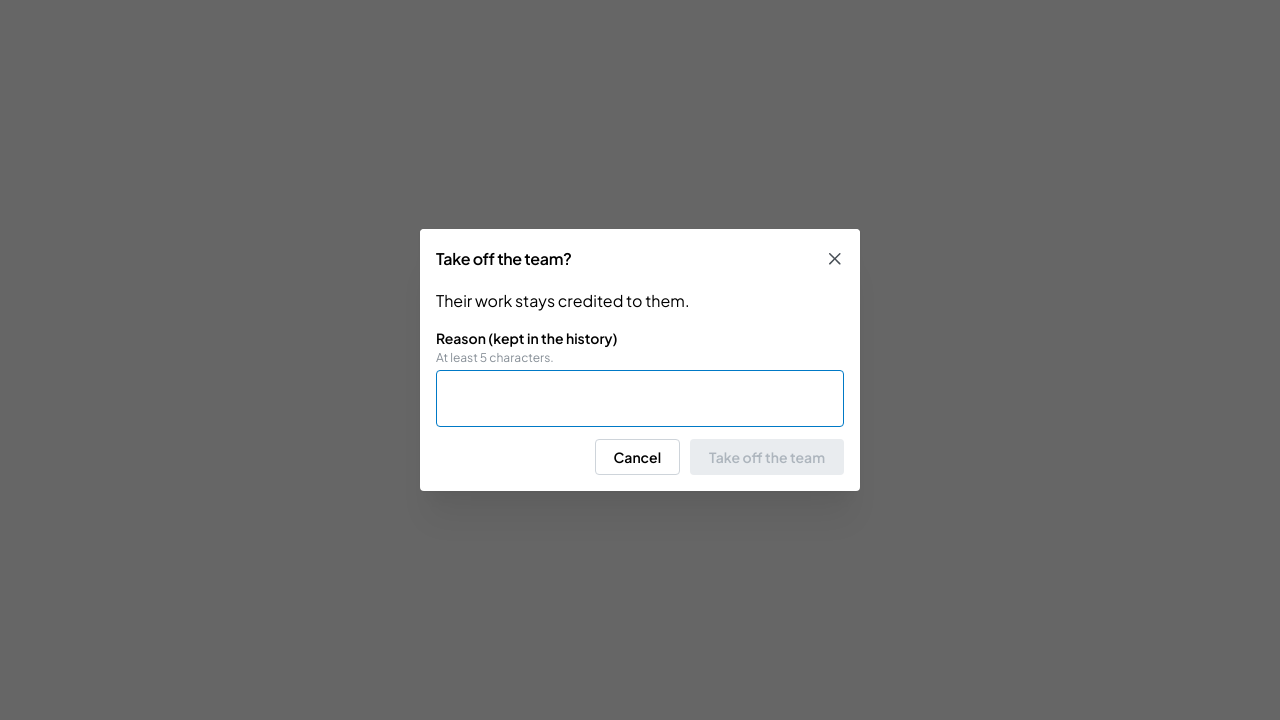
Test case: ConfirmModal › asks for a reason before a sensitive change
Later steps or results of the test are not shown.
Check: the button "Take off the team" is disabled, box [690, 439, 844, 475]
In the text box: (640, 398) [436, 370, 844, 427], type "  No longer on the case  "
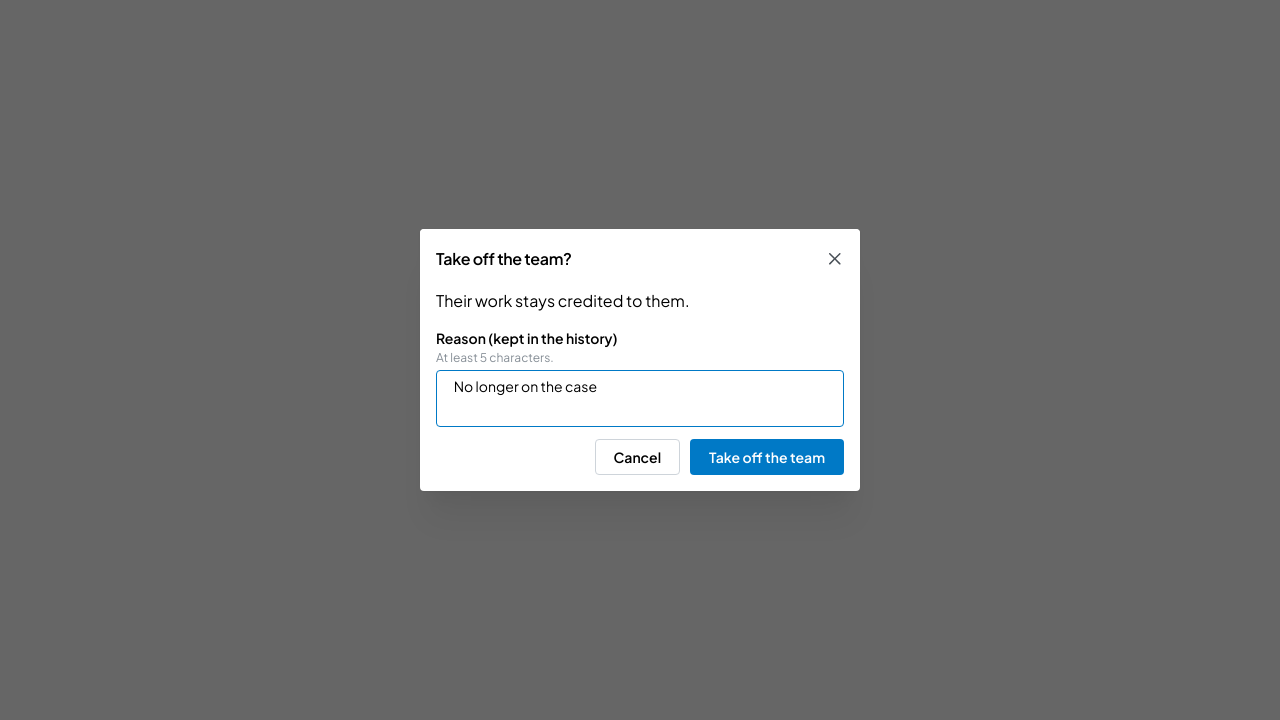
Check: the button "Take off the team" is enabled, box [690, 439, 844, 475]
